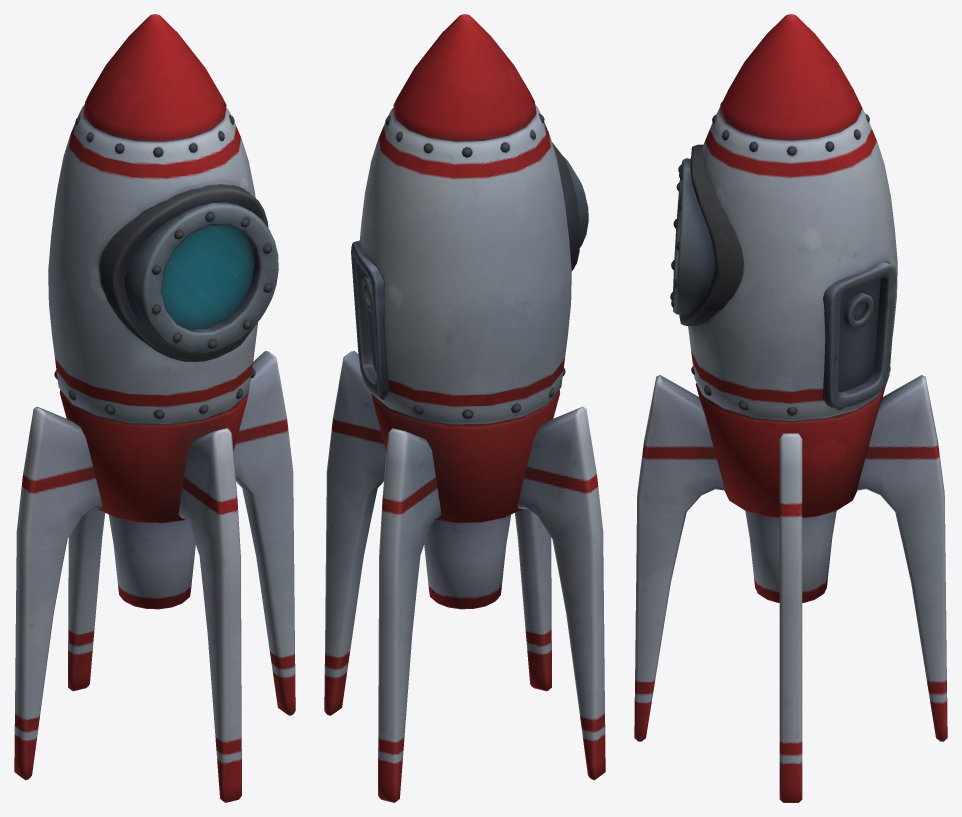
Rendered from Rocket_A_Color1.fbx.
3 views of the same model, side by side, from view 1: azimuth 30°, elevation 25°; view 2: azimuth 150°, elevation 25°; view 3: azimuth 270°, elevation 25° (orthographic).
Parts seen in each view (by area): view 1: Rocket_A_Color1; view 2: Rocket_A_Color1; view 3: Rocket_A_Color1.
Boxes of the visible parts, x1,y1,x2,y2 form: Rocket_A_Color1: (14,14,295,802); Rocket_A_Color1: (324,14,605,802); Rocket_A_Color1: (634,14,947,802).
Size of the model in its own units: 565 by 1443 by 565.
